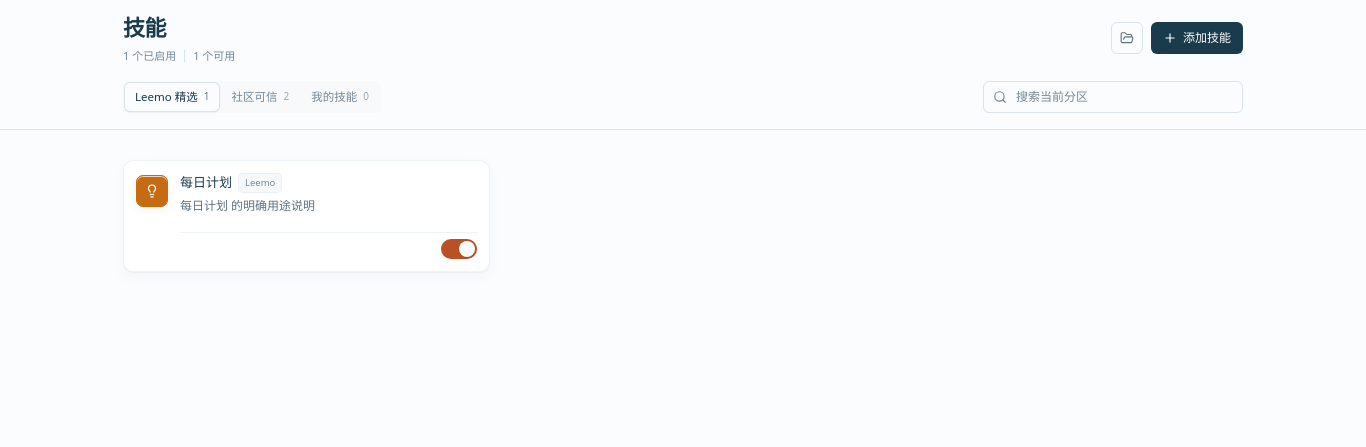
SkillsPage — product-facing sections › derives new category filters from catalog metadata instead of a closed list
The image size is (1366, 447).
Click the tab "社区可信 2" at (260, 96), box [221,82,299,110]
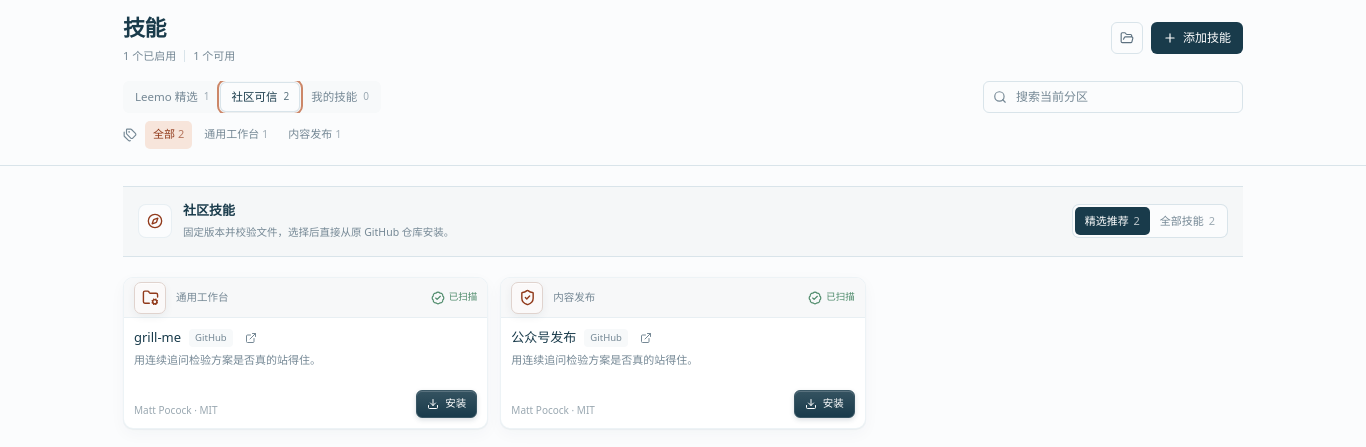
Now the button "内容发布 1" is shown
Click the button "内容发布 1" at (315, 134), box [280,120,350,148]
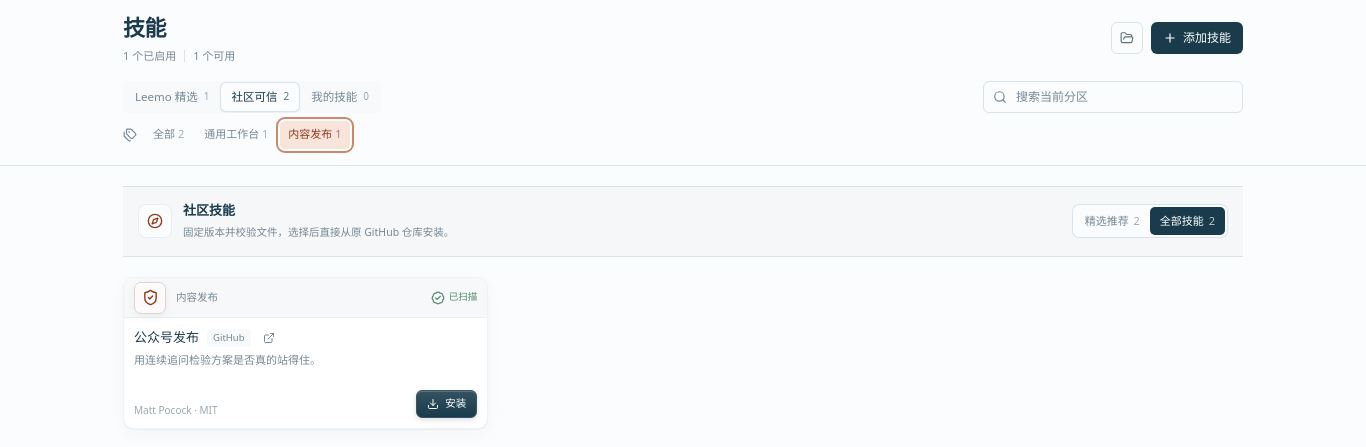
Now the button "公众号发布" is shown, box [134,328,199,348]
Now the button "grill-me" is gone
